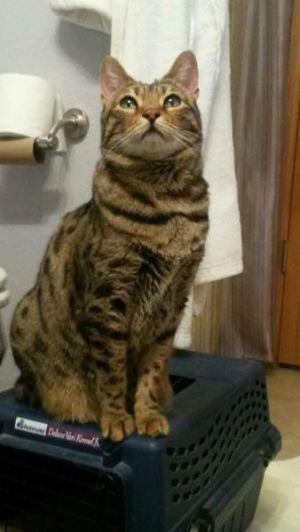bengal: (96, 49, 208, 172)
